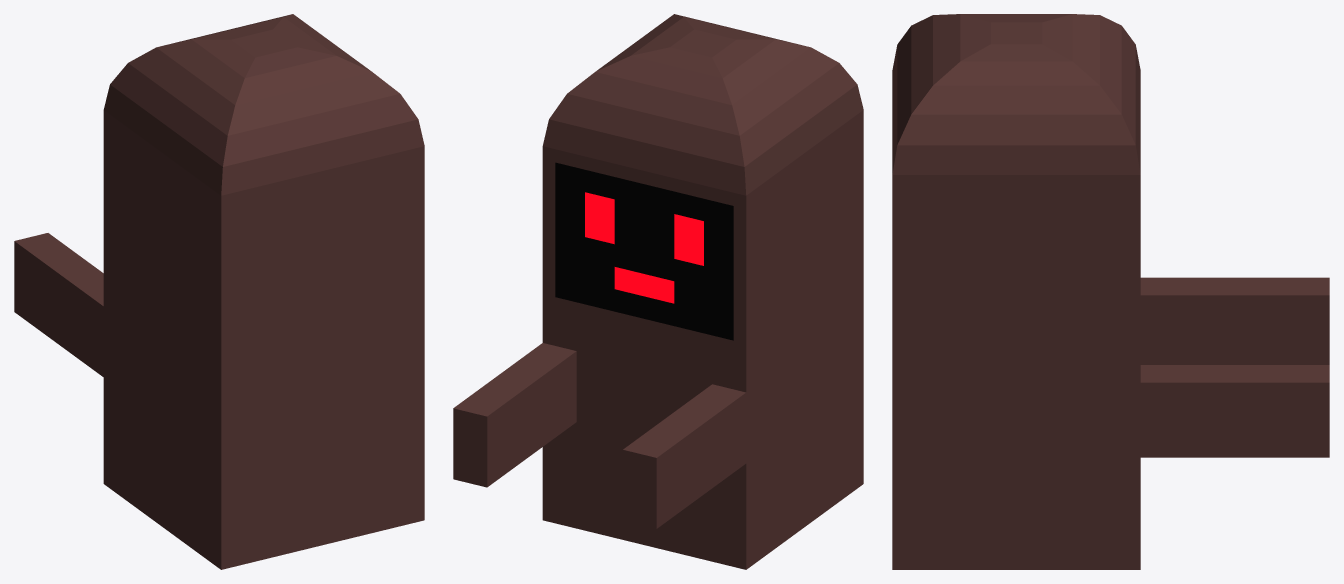
File: walk_creep.fbx
3 views of the same model, side by side, from view 1: azimuth 30°, elevation 25°; view 2: azimuth 150°, elevation 25°; view 3: azimuth 270°, elevation 25° (orthographic). The views are drawn at different scales.
Parts seen in each view (by area): view 1: Cube.002; view 2: Cube.002; view 3: Cube.002.
Part boxes in pixels (<box>): Cube.002: <box>14,14,424,569</box>; Cube.002: <box>453,14,863,569</box>; Cube.002: <box>892,14,1329,569</box>.
Bounding box in the file's own units: 200 × 431 × 352.
